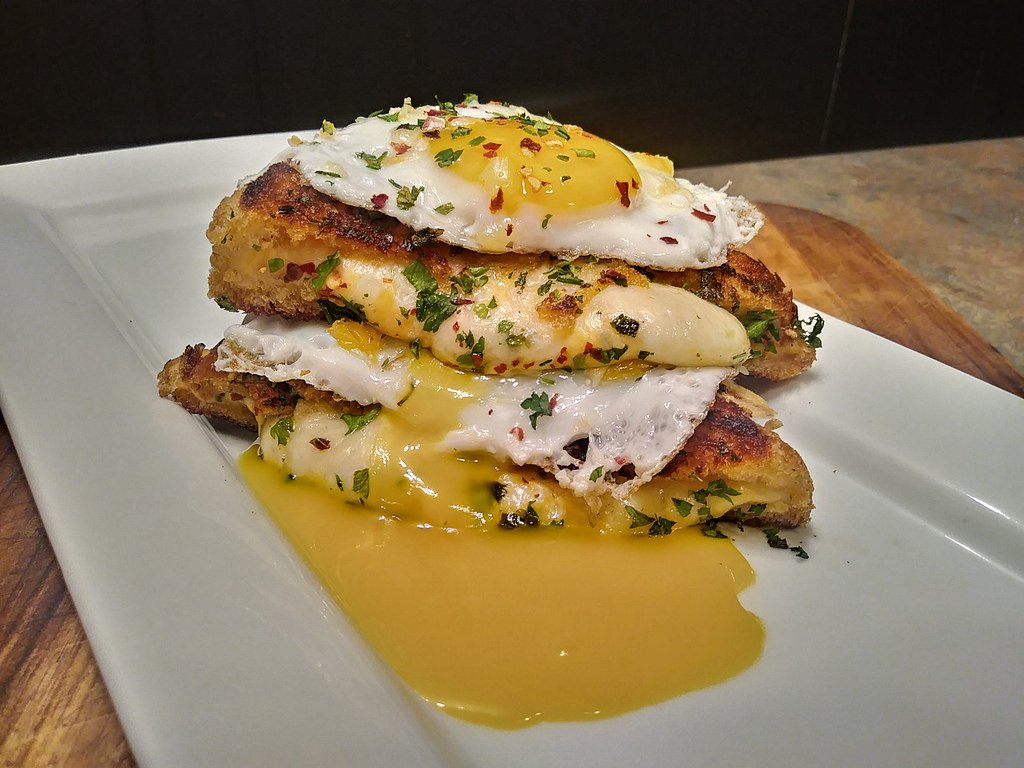fried egg: (235, 313, 717, 460), (308, 118, 739, 258)
